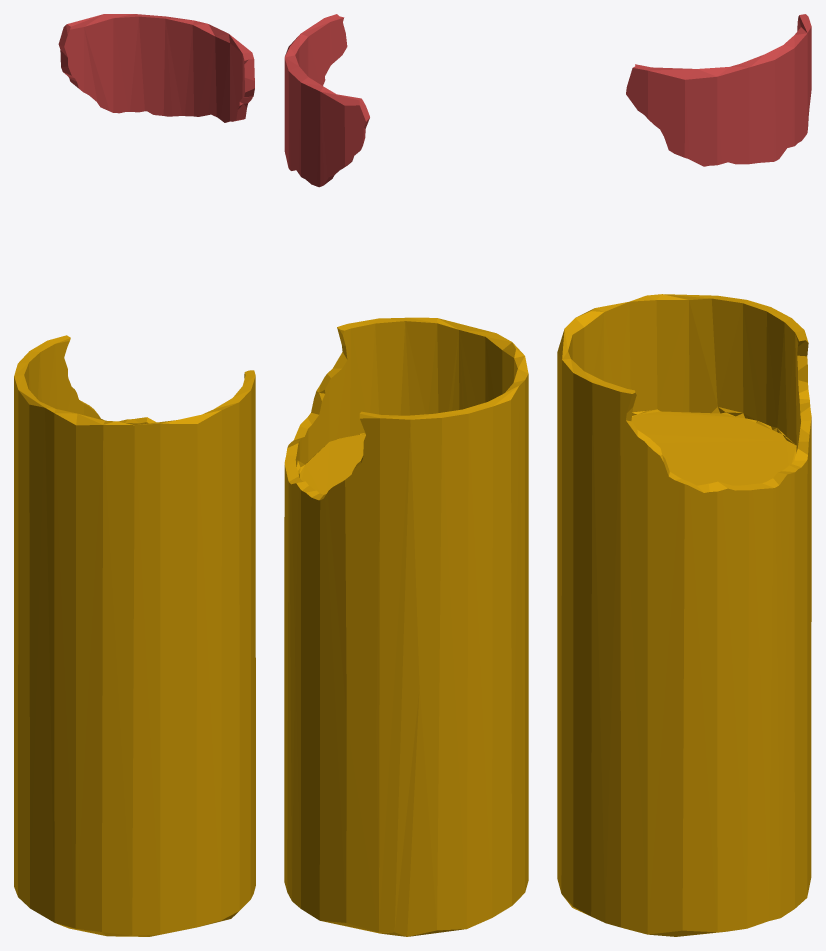
The model's file is fractured_31_2pcs_transformed.glb.
3 views of the same model, side by side, from view 1: azimuth 30°, elevation 25°; view 2: azimuth 150°, elevation 25°; view 3: azimuth 270°, elevation 25° (orthographic). The views are drawn at different scales.
Visible parts, largest first — view 1: piece_0.obj, piece_1.obj; view 2: piece_0.obj, piece_1.obj; view 3: piece_0.obj, piece_1.obj.
Part boxes in pixels (x1=…): piece_0.obj: x1=14, y1=335, x2=255, y2=936; piece_1.obj: x1=58, y1=14, x2=254, y2=122; piece_0.obj: x1=284, y1=317, x2=528, y2=936; piece_1.obj: x1=284, y1=14, x2=369, y2=187; piece_0.obj: x1=557, y1=294, x2=811, y2=936; piece_1.obj: x1=626, y1=14, x2=811, y2=166.
Bounding box in the file's own units: 0.424 × 1.6 × 0.4237.
